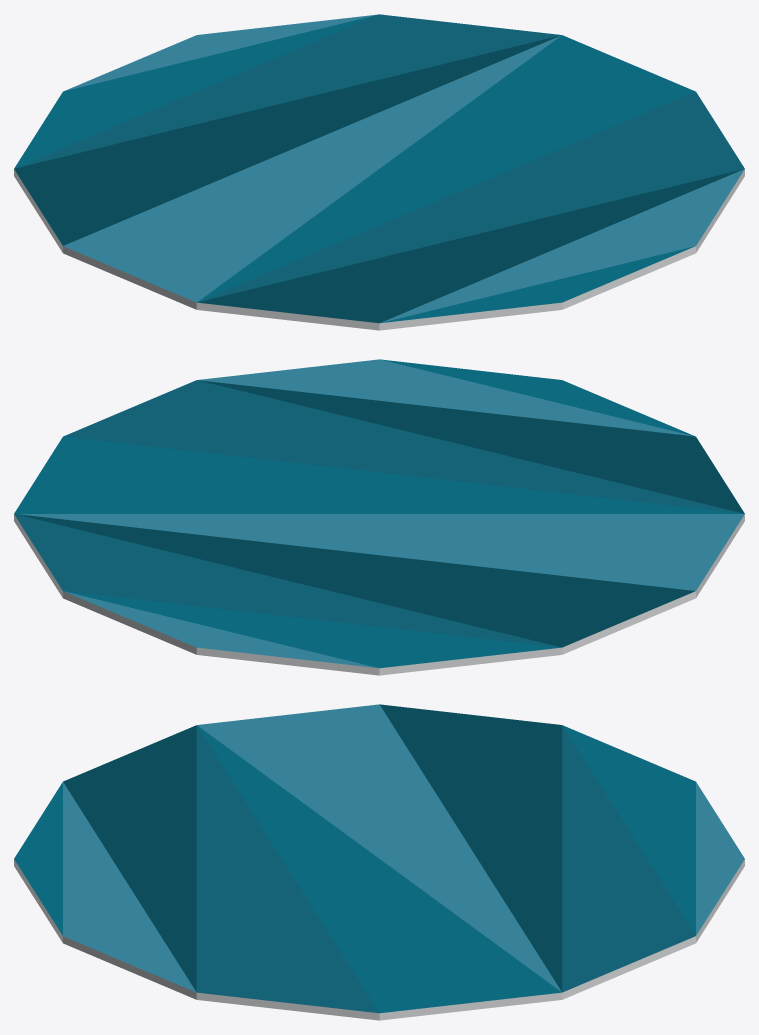
Rendered from Accesories_Circle.010.glb.
3 renders of one model, top to bottom at view 1: azimuth 30°, elevation 25°; view 2: azimuth 150°, elevation 25°; view 3: azimuth 270°, elevation 25°, orthographic.
Visible parts, largest first — view 1: Accesories_Circle.010; view 2: Accesories_Circle.010; view 3: Accesories_Circle.010.
Boxes of the visible parts, x1,y1,x2,y2 form: Accesories_Circle.010: [14, 14, 744, 330]; Accesories_Circle.010: [14, 359, 744, 675]; Accesories_Circle.010: [14, 704, 744, 1020].
Size of the model in its own units: 2.73 by 0.0301 by 2.73.
1 material, 1 textured.
